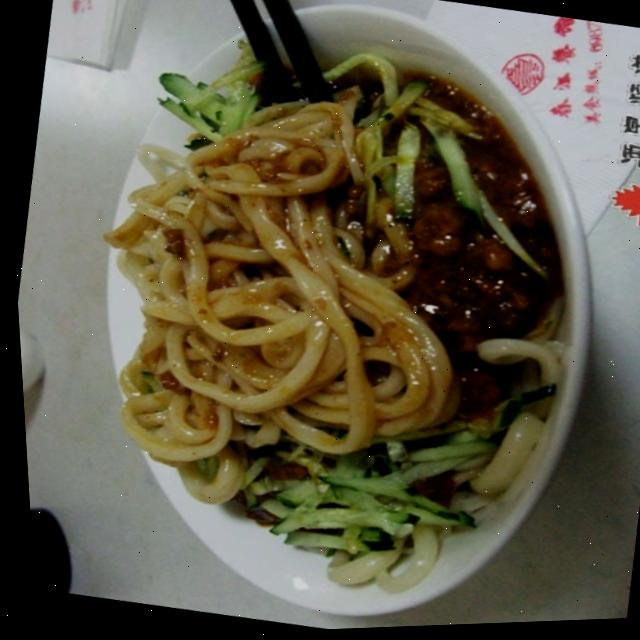面条主食: (19, 0, 640, 639)
